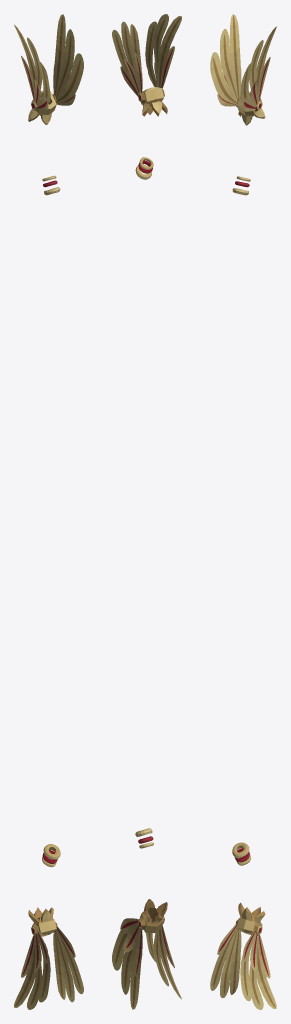
The model's file is smallBowGreekTip.glb.
The picture shows the model from 3 angles, left to right: view 1: azimuth 30°, elevation 25°; view 2: azimuth 210°, elevation 25°; view 3: azimuth 330°, elevation 25°; orthographic projection.
Parts seen in each view (by area): view 1: smallBowGreekTip; view 2: smallBowGreekTip; view 3: smallBowGreekTip.
Part boxes in pixels (x1,y1,x2,y2): smallBowGreekTip: [14, 14, 83, 1009]; smallBowGreekTip: [112, 14, 181, 1009]; smallBowGreekTip: [210, 14, 276, 1009].
Bounding box in the file's own units: 0.0709 × 1.44 × 0.0861.
